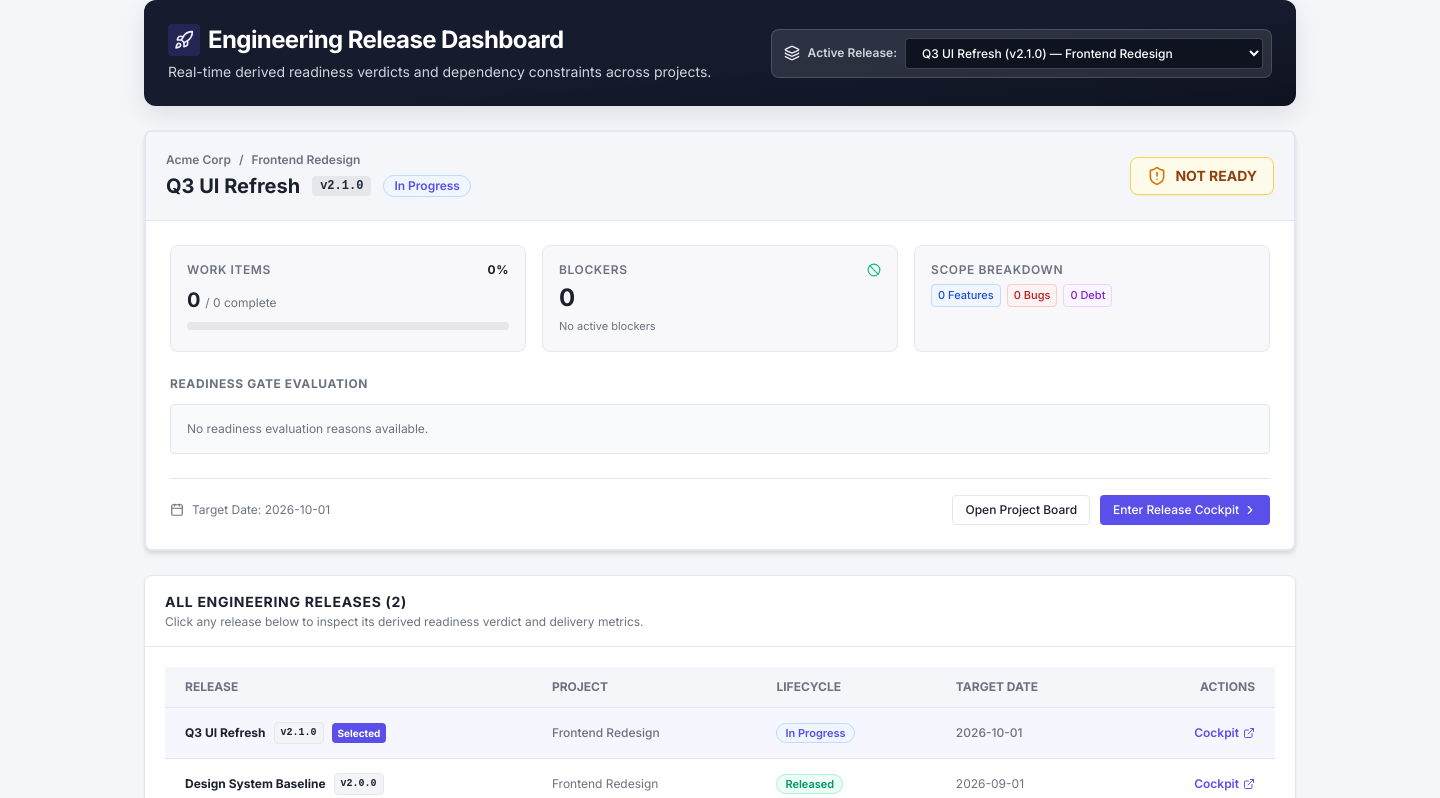
it: Dashboard (Engineering Release Dashboard) › switches the active release when dropdown selection changes
The image size is (1440, 798).
Expected: the element with test id "readiness-verdict" reads "NOT READY", [1175,167,1257,184]
Select "Design System Baseline (v2.0.0) — Frontend Redesign" in the dropdown labelled "Active Release" at coordinates (1084, 53), box [905,38,1263,68]
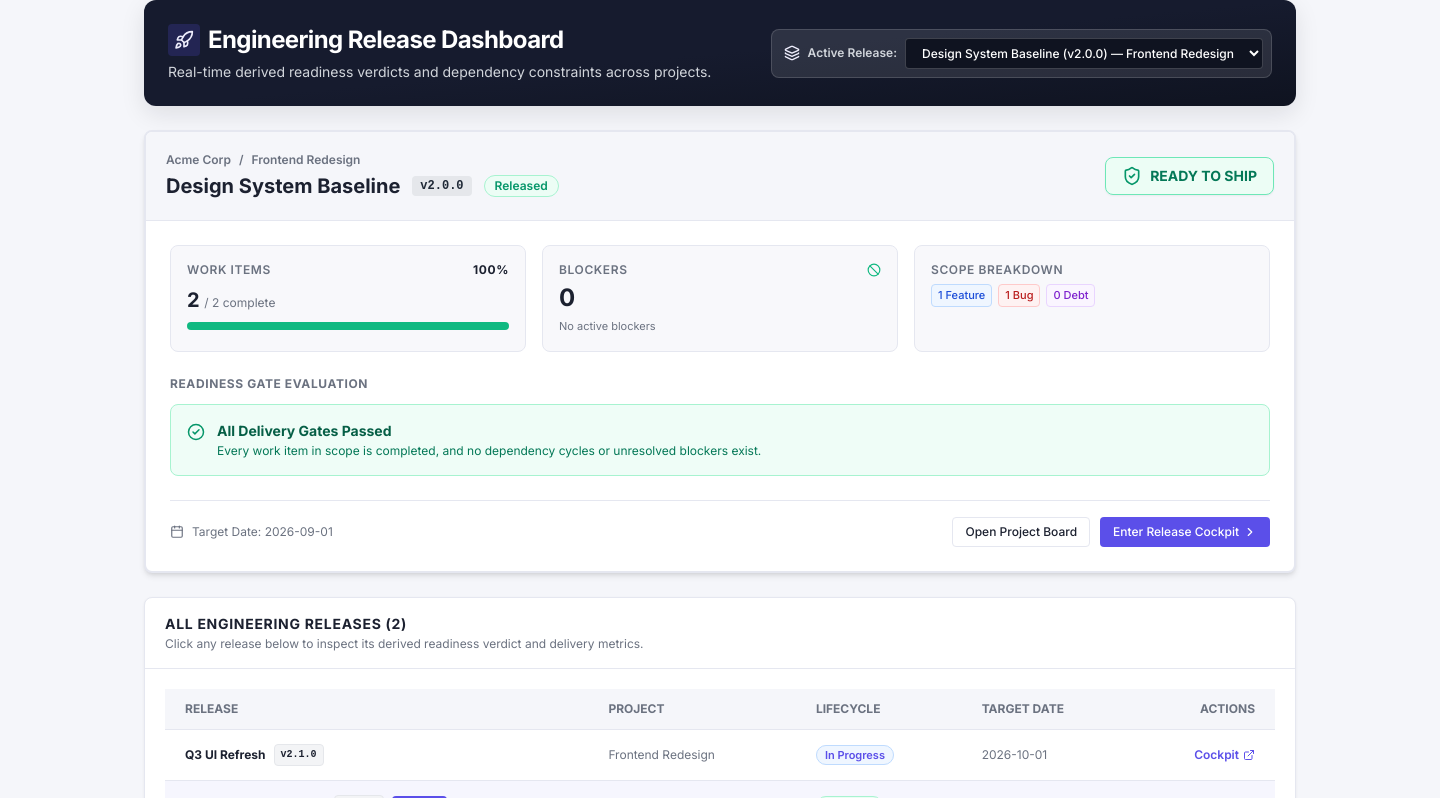
Now the element with test id "readiness-verdict" reads "READY TO SHIP", box [1150,167,1257,184]
Now the heading "All Delivery Gates Passed" is shown, box [217,422,392,438]
